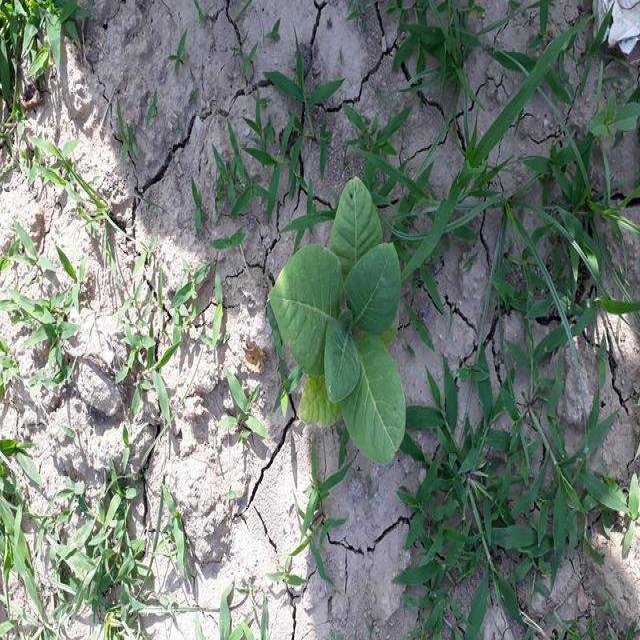crop: (271, 184, 408, 463)
